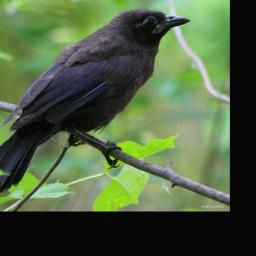Crow: (0, 7, 191, 195)
